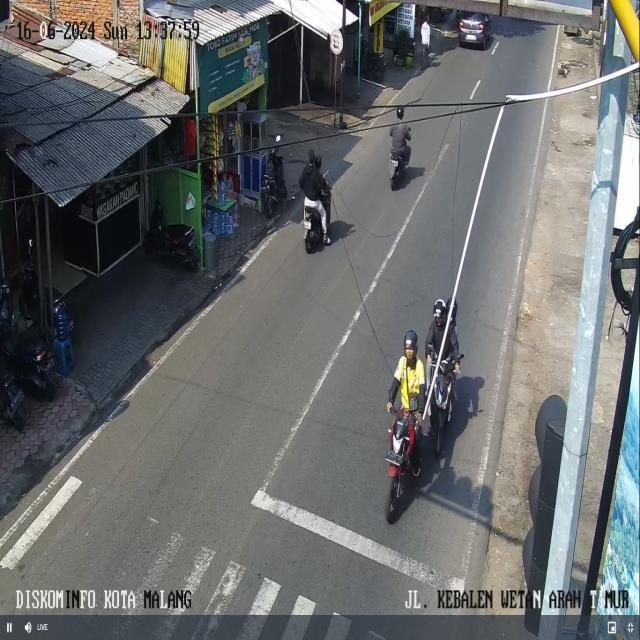Helmet: (433, 299, 447, 326), (404, 329, 417, 350), (308, 149, 315, 165), (314, 154, 321, 169), (451, 301, 456, 321), (396, 106, 403, 119)
Number Plate: (385, 450, 402, 465), (303, 220, 311, 229), (466, 34, 475, 40), (390, 160, 397, 166)
